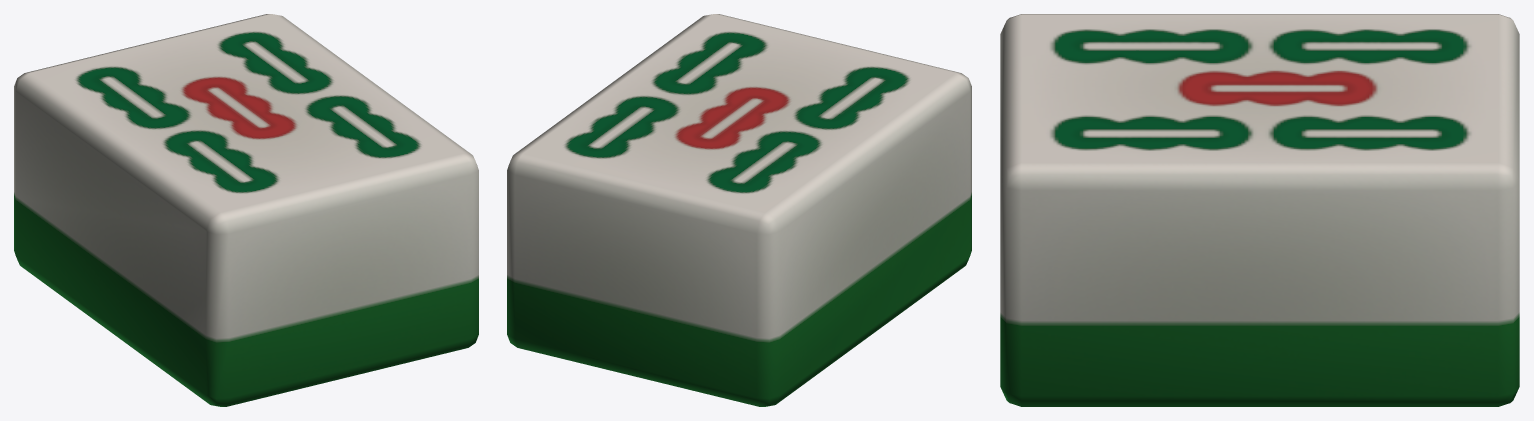
File: Test _SSS.fbx
The picture shows the model from 3 angles, left to right: view 1: azimuth 30°, elevation 25°; view 2: azimuth 150°, elevation 25°; view 3: azimuth 270°, elevation 25°; orthographic projection. The views are drawn at different scales.
Parts seen in each view (by area): view 1: MaJiang_Baise; view 2: MaJiang_Baise; view 3: MaJiang_Baise.
Boxes of the visible parts, bbox=[...] form: MaJiang_Baise: bbox=[14, 14, 478, 406]; MaJiang_Baise: bbox=[507, 14, 971, 406]; MaJiang_Baise: bbox=[1000, 14, 1519, 406].
Size of the model in its own units: 3.4 by 2.33 by 4.5.
3 materials, 3 textured.
